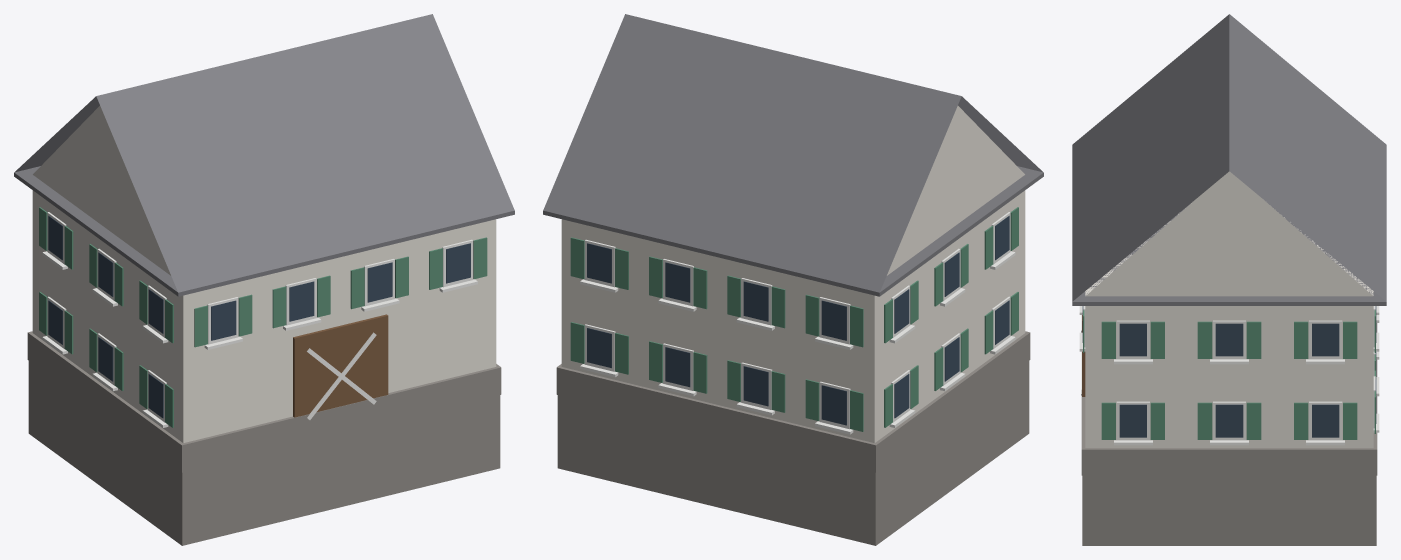
File: farmhouse.glb
3 views of the same model, side by side, from view 1: azimuth 30°, elevation 25°; view 2: azimuth 150°, elevation 25°; view 3: azimuth 270°, elevation 25° (orthographic). The views are drawn at different scales.
Visible parts, largest first — view 1: farmhouse; view 2: farmhouse; view 3: farmhouse.
Boxes of the visible parts, bbox=[...] form: farmhouse: bbox=[14, 14, 514, 545]; farmhouse: bbox=[543, 14, 1043, 545]; farmhouse: bbox=[1072, 14, 1386, 545].
Bounding box in the file's own units: 12.9 × 14.5 × 10.9.
